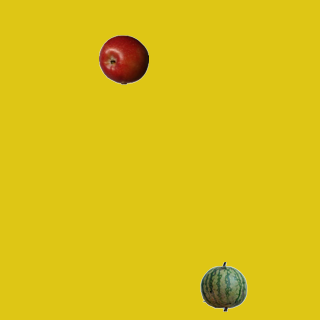Apple Braeburn: (98, 34, 148, 84)
Watermelon: (198, 261, 248, 311)
